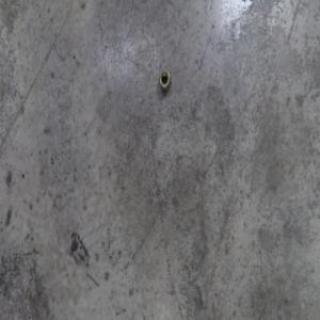Nuttrack_idkeyframe: (157, 67, 171, 93)
